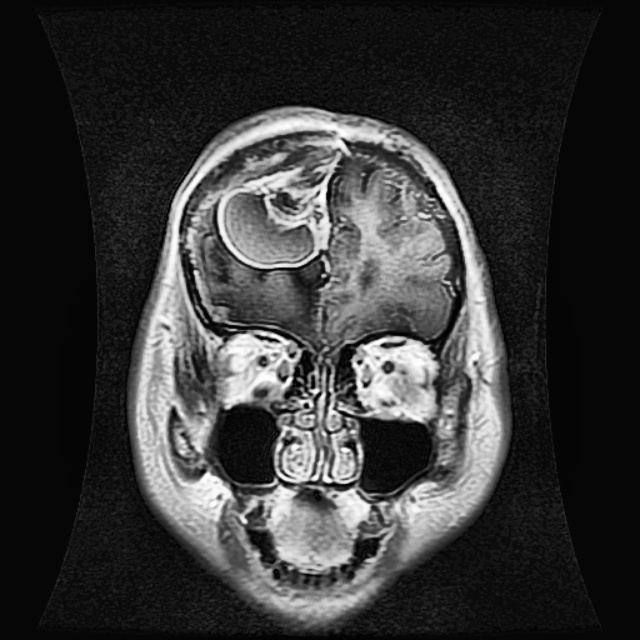Meningioma: (217, 145, 340, 268)
